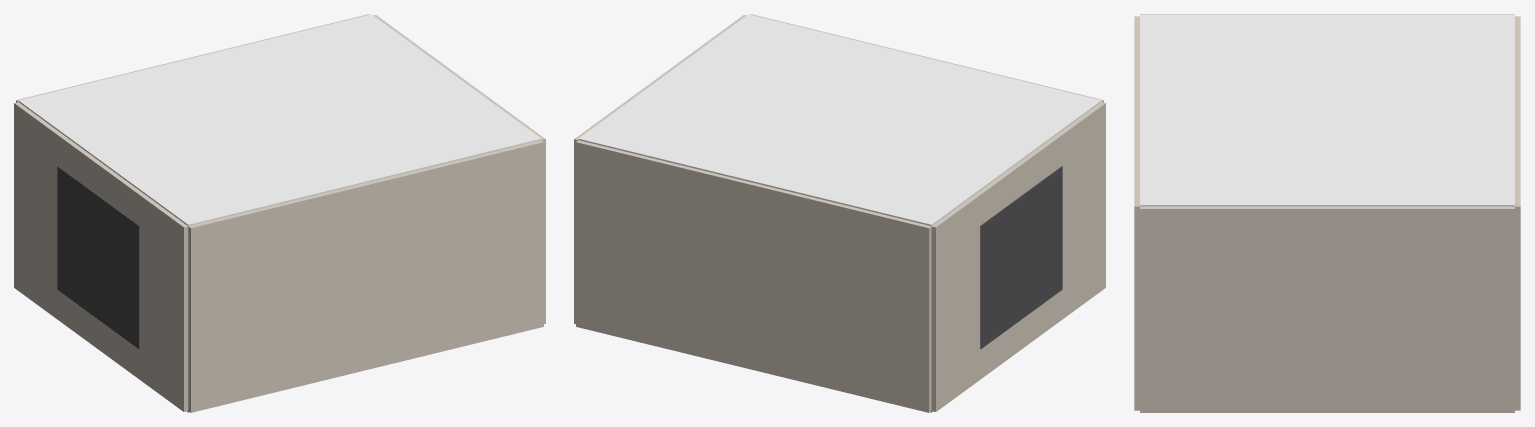
Rendered from spacious_room_shell.glb.
3 renders of one model, left to right at view 1: azimuth 30°, elevation 25°; view 2: azimuth 150°, elevation 25°; view 3: azimuth 270°, elevation 25°, orthographic. The views are drawn at different scales.
Parts seen in each view (by area): view 1: wallBack, ceiling, wallLeft, window_frame, wallRight, wallFront; view 2: wallFront, ceiling, wallLeft, window_frame, wallRight, wallBack; view 3: wallRight, ceiling, wallFront, wallBack, wallLeft.
Part boxes in pixels (x1,y1,x2,y2): wallBack: [188, 140, 543, 412]; ceiling: [18, 14, 541, 226]; wallLeft: [14, 102, 188, 411]; window_frame: [57, 166, 139, 348]; wallRight: [373, 15, 545, 324]; wallFront: [16, 14, 369, 102]; wallFront: [576, 140, 931, 412]; ceiling: [578, 14, 1101, 226]; wallLeft: [931, 102, 1105, 411]; window_frame: [980, 166, 1062, 348]; wallRight: [574, 15, 746, 324]; wallBack: [750, 14, 1103, 102]; wallRight: [1140, 206, 1514, 412]; ceiling: [1140, 14, 1514, 206]; wallFront: [1515, 16, 1520, 410]; wallBack: [1134, 16, 1139, 410]; wallLeft: [1140, 14, 1514, 14].
Size of the model in its own units: 6.17 by 3.05 by 5.15.
